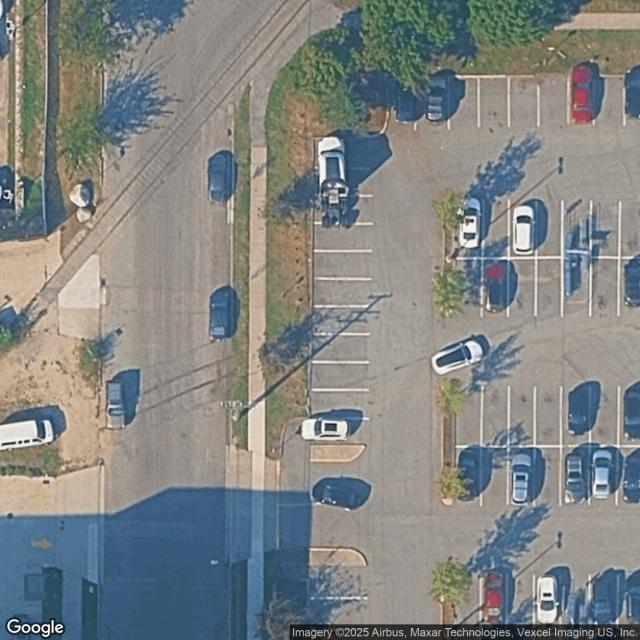car: (573, 71, 596, 122), (457, 199, 480, 247), (394, 76, 418, 121), (485, 260, 507, 309), (510, 454, 531, 504), (486, 572, 506, 624), (594, 578, 616, 623), (427, 77, 448, 123), (593, 450, 613, 498), (460, 451, 479, 501), (514, 207, 534, 254), (566, 455, 586, 502), (569, 390, 589, 436), (622, 455, 640, 503), (538, 578, 558, 621), (623, 392, 640, 441), (623, 259, 640, 307), (625, 578, 640, 622), (627, 73, 640, 117)
lot_boundary: (307, 73, 640, 625)
objects: (309, 71, 391, 139), (440, 377, 457, 505), (440, 198, 455, 315), (309, 548, 365, 568), (439, 567, 456, 628), (310, 445, 365, 463)
stall: (314, 138, 371, 171), (508, 72, 540, 127), (454, 197, 482, 259), (480, 444, 508, 505), (316, 222, 372, 252), (313, 305, 369, 335), (312, 360, 368, 390), (563, 252, 590, 314), (310, 389, 369, 417), (316, 250, 371, 280), (478, 74, 508, 128), (310, 569, 364, 599), (509, 198, 536, 258), (450, 77, 480, 130), (564, 385, 590, 446), (483, 197, 509, 258), (510, 384, 535, 447), (535, 256, 562, 314), (541, 74, 571, 126), (592, 203, 620, 258), (315, 196, 370, 224), (307, 598, 366, 624), (592, 386, 618, 445), (459, 380, 482, 446), (456, 257, 483, 313), (509, 258, 535, 316), (483, 386, 508, 446), (314, 279, 369, 306), (595, 75, 624, 126), (314, 334, 368, 361), (315, 171, 369, 198), (421, 78, 449, 130), (536, 448, 562, 504), (593, 256, 618, 314), (538, 383, 561, 446), (538, 200, 563, 257), (512, 446, 536, 504), (592, 447, 616, 505), (571, 72, 596, 127), (592, 576, 620, 625), (509, 572, 534, 626), (564, 576, 592, 624), (617, 388, 640, 446), (565, 447, 588, 504), (564, 203, 590, 253), (535, 574, 561, 624), (618, 445, 640, 504), (485, 259, 508, 314), (461, 445, 482, 504), (617, 203, 640, 256), (619, 257, 640, 313), (394, 77, 416, 129), (486, 572, 506, 628), (461, 573, 482, 625), (623, 73, 640, 125), (624, 578, 640, 626)
